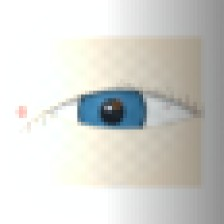foreign_body_visible: (107, 97, 127, 113)
